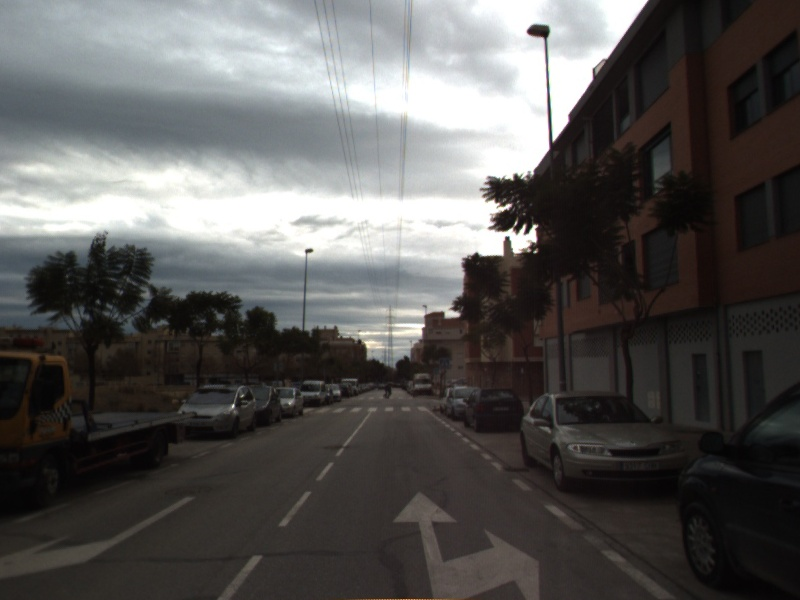STRAIGHT_RIGHT: (390, 487, 541, 600)
